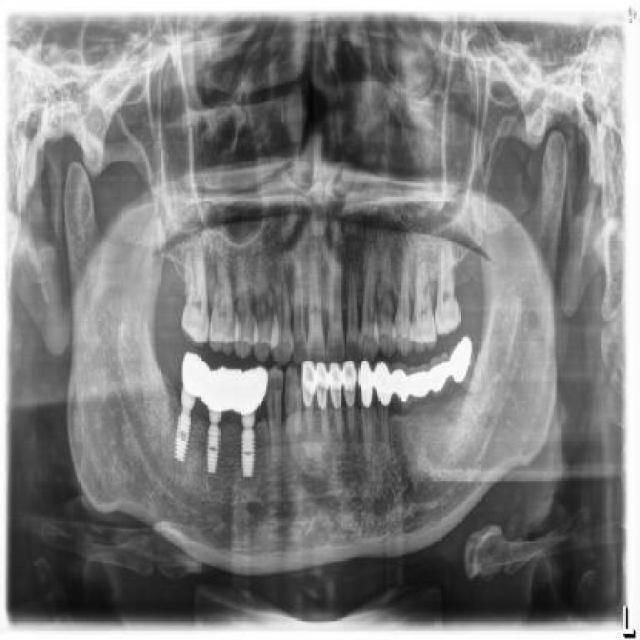implant: (235, 364, 269, 475), (201, 364, 234, 470), (177, 352, 204, 462)
kaplama: (343, 355, 359, 420), (314, 360, 331, 421), (357, 357, 376, 411), (372, 361, 391, 413), (332, 358, 344, 426), (302, 360, 317, 409)
kopru: (391, 329, 484, 424)
